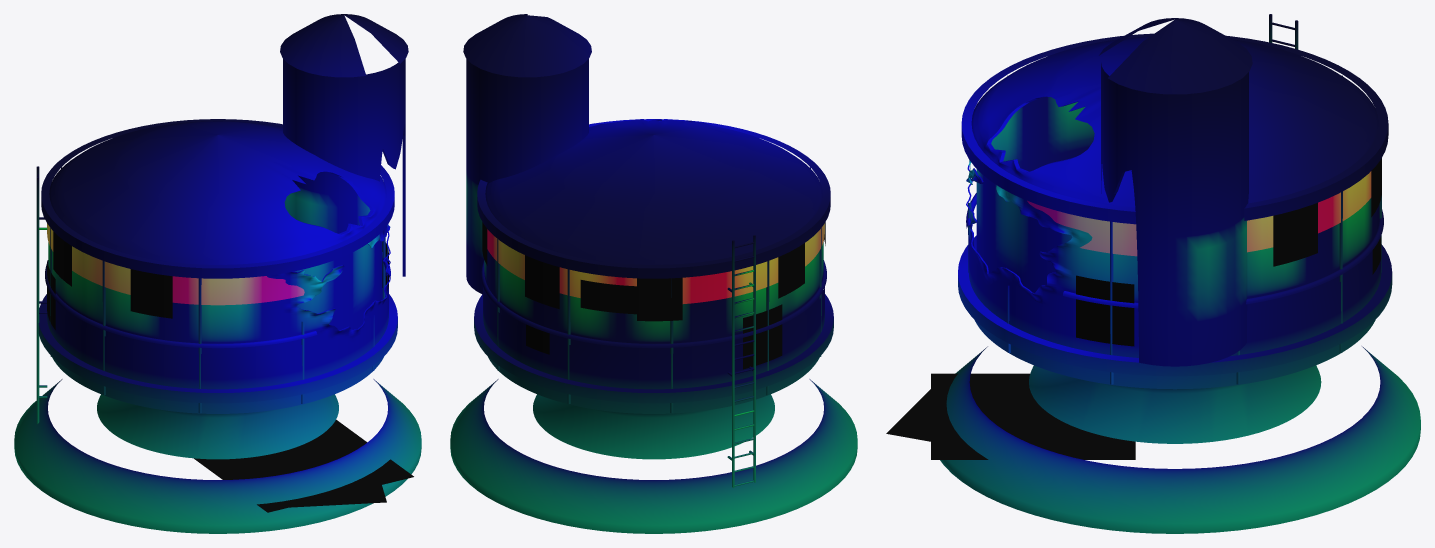
Rendered from smallfueltank_damaged.glb.
3 renders of one model, left to right at view 1: azimuth 30°, elevation 25°; view 2: azimuth 150°, elevation 25°; view 3: azimuth 270°, elevation 25°, orthographic. The views are drawn at different scales.
Parts seen in each view (by area): view 1: lod0; view 2: lod0; view 3: lod0.
Part boxes in pixels (bbox=[...]): lod0: bbox=[14, 14, 421, 533]; lod0: bbox=[450, 14, 857, 533]; lod0: bbox=[886, 14, 1420, 533].
Size of what is drawn, in the model's own units: 8.02 by 8.6 by 8.59.
